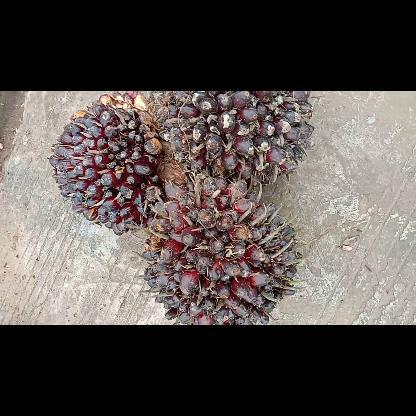TBS mentah: (142, 174, 306, 324), (47, 91, 191, 239), (147, 90, 313, 200)
